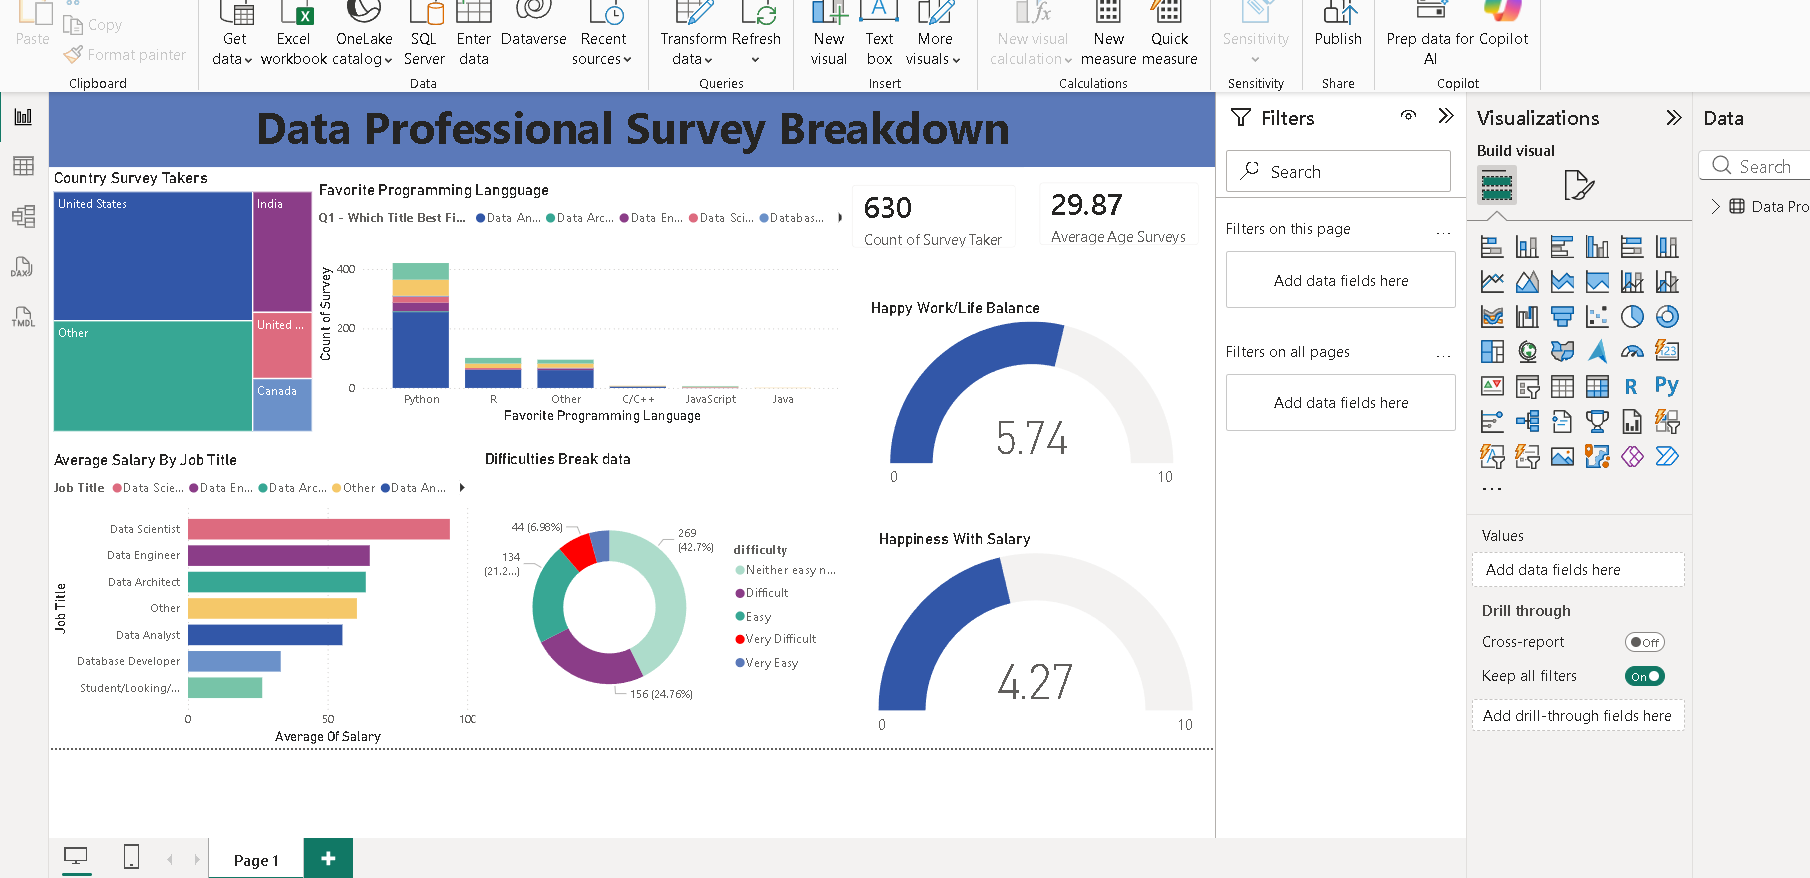

The page's visual inventory and layout, read from the dashboard file:
{"tool":"powerbi","page":{"name":"Page 1","canvas":[1280,720],"ordinal":0},"visuals":[{"type":"textbox","box":[0,0,1280.3,82.2],"z":0},{"type":"cardVisual","fields":{"Data":["Avg(Data Professional Survey.Q10 - Current Age)"]},"box":[1070.9,82.2,209.4,103.5],"z":2},{"type":"cardVisual","fields":{"Data":["Count(Data Professional Survey.Unique ID)"]},"box":[863.9,85.5,214.3,103.5],"z":3},{"type":"barChart","title":"Average Salary By Job Title","fields":{"Category":["Data Professional Survey.Q1 - Which Title Best Fits your Current Role?.1"],"Y":["Avg(Data Professional Survey.Avarage Salary Columns)"],"Series":["Data Professional Survey.Q1 - Which Title Best Fits your Current Role?.1"]},"box":[0,393.5,473.3,326.4],"z":4},{"type":"columnChart","title":"Favorite Programming Langguage","fields":{"Category":["Data Professional Survey.Q5 - Favorite Programming Language.1"],"Y":["CountNonNull(Data Professional Survey.Unique ID)"],"Series":["Data Professional Survey.Q1 - Which Title Best Fits your Current Role?.1"]},"box":[290.9,97,584.1,271.2],"z":5},{"type":"treemap","title":"Country Survey Takers","fields":{"Group":["Data Professional Survey.Q11 - Which Country do you live in?.1"],"Values":["CountNonNull(Data Professional Survey.Q11 - Which Country do you live in?.1)"]},"box":[0,83.5,294.2,294.2],"z":6},{"type":"gauge","title":"Happy Work/Life Balance","fields":{"Y":["Avg(Data Professional Survey.Q6 - How Happy are you in your Current Position with the following? (Work/Life Balance))"],"MinValue":["Min(Data Professional Survey.Q6 - How Happy are you in your Current Position with the following? (Work/Life Balance))"],"MaxValue":["Max(Data Professional Survey.Q6 - How Happy are you in your Current Position with the following? (Work/Life Balance))1"]},"box":[897.4,226.8,363.2,218.6],"z":8},{"type":"gauge","title":"Happiness With Salary","fields":{"Y":["Avg(Data Professional Survey.Q6 - How Happy are you in your Current Position with the following? (Salary))"],"MinValue":["Min(Data Professional Survey.Q6 - How Happy are you in your Current Position with the following? (Salary))"],"MaxValue":["Max(Data Professional Survey.Q6 - How Happy are you in your Current Position with the following? (Salary))"]},"box":[905.6,479.9,355,236.7],"z":9},{"type":"donutChart","title":"Difficulties Break data","fields":{"Category":["Data Professional Survey.Q7 - How difficult was it for you to break into Data?"],"Y":["CountNonNull(Data Professional Survey.Q7 - How difficult was it for you to break into Data?)"]},"box":[473,393,402,326],"z":10}]}

Visuals, with their boxes on the page's 1280x720 design canvas (x1, y1, x2, y2). These are canvas units, not pixel positions in the 1810x878 screenshot, which may show the page scaled, cropped or inside an application window:
textbox: <bbox>0, 0, 1280, 82</bbox>
cardVisual - Avg(Data Professional Survey.Q10 - Current Age): <bbox>1071, 82, 1280, 186</bbox>
cardVisual - Count(Data Professional Survey.Unique ID): <bbox>864, 86, 1078, 189</bbox>
"Average Salary By Job Title" barChart: <bbox>0, 394, 473, 720</bbox>
"Favorite Programming Langguage" columnChart: <bbox>291, 97, 875, 368</bbox>
"Country Survey Takers" treemap: <bbox>0, 84, 294, 378</bbox>
"Happy Work/Life Balance" gauge: <bbox>897, 227, 1261, 445</bbox>
"Happiness With Salary" gauge: <bbox>906, 480, 1261, 717</bbox>
"Difficulties Break data" donutChart: <bbox>473, 393, 875, 719</bbox>
